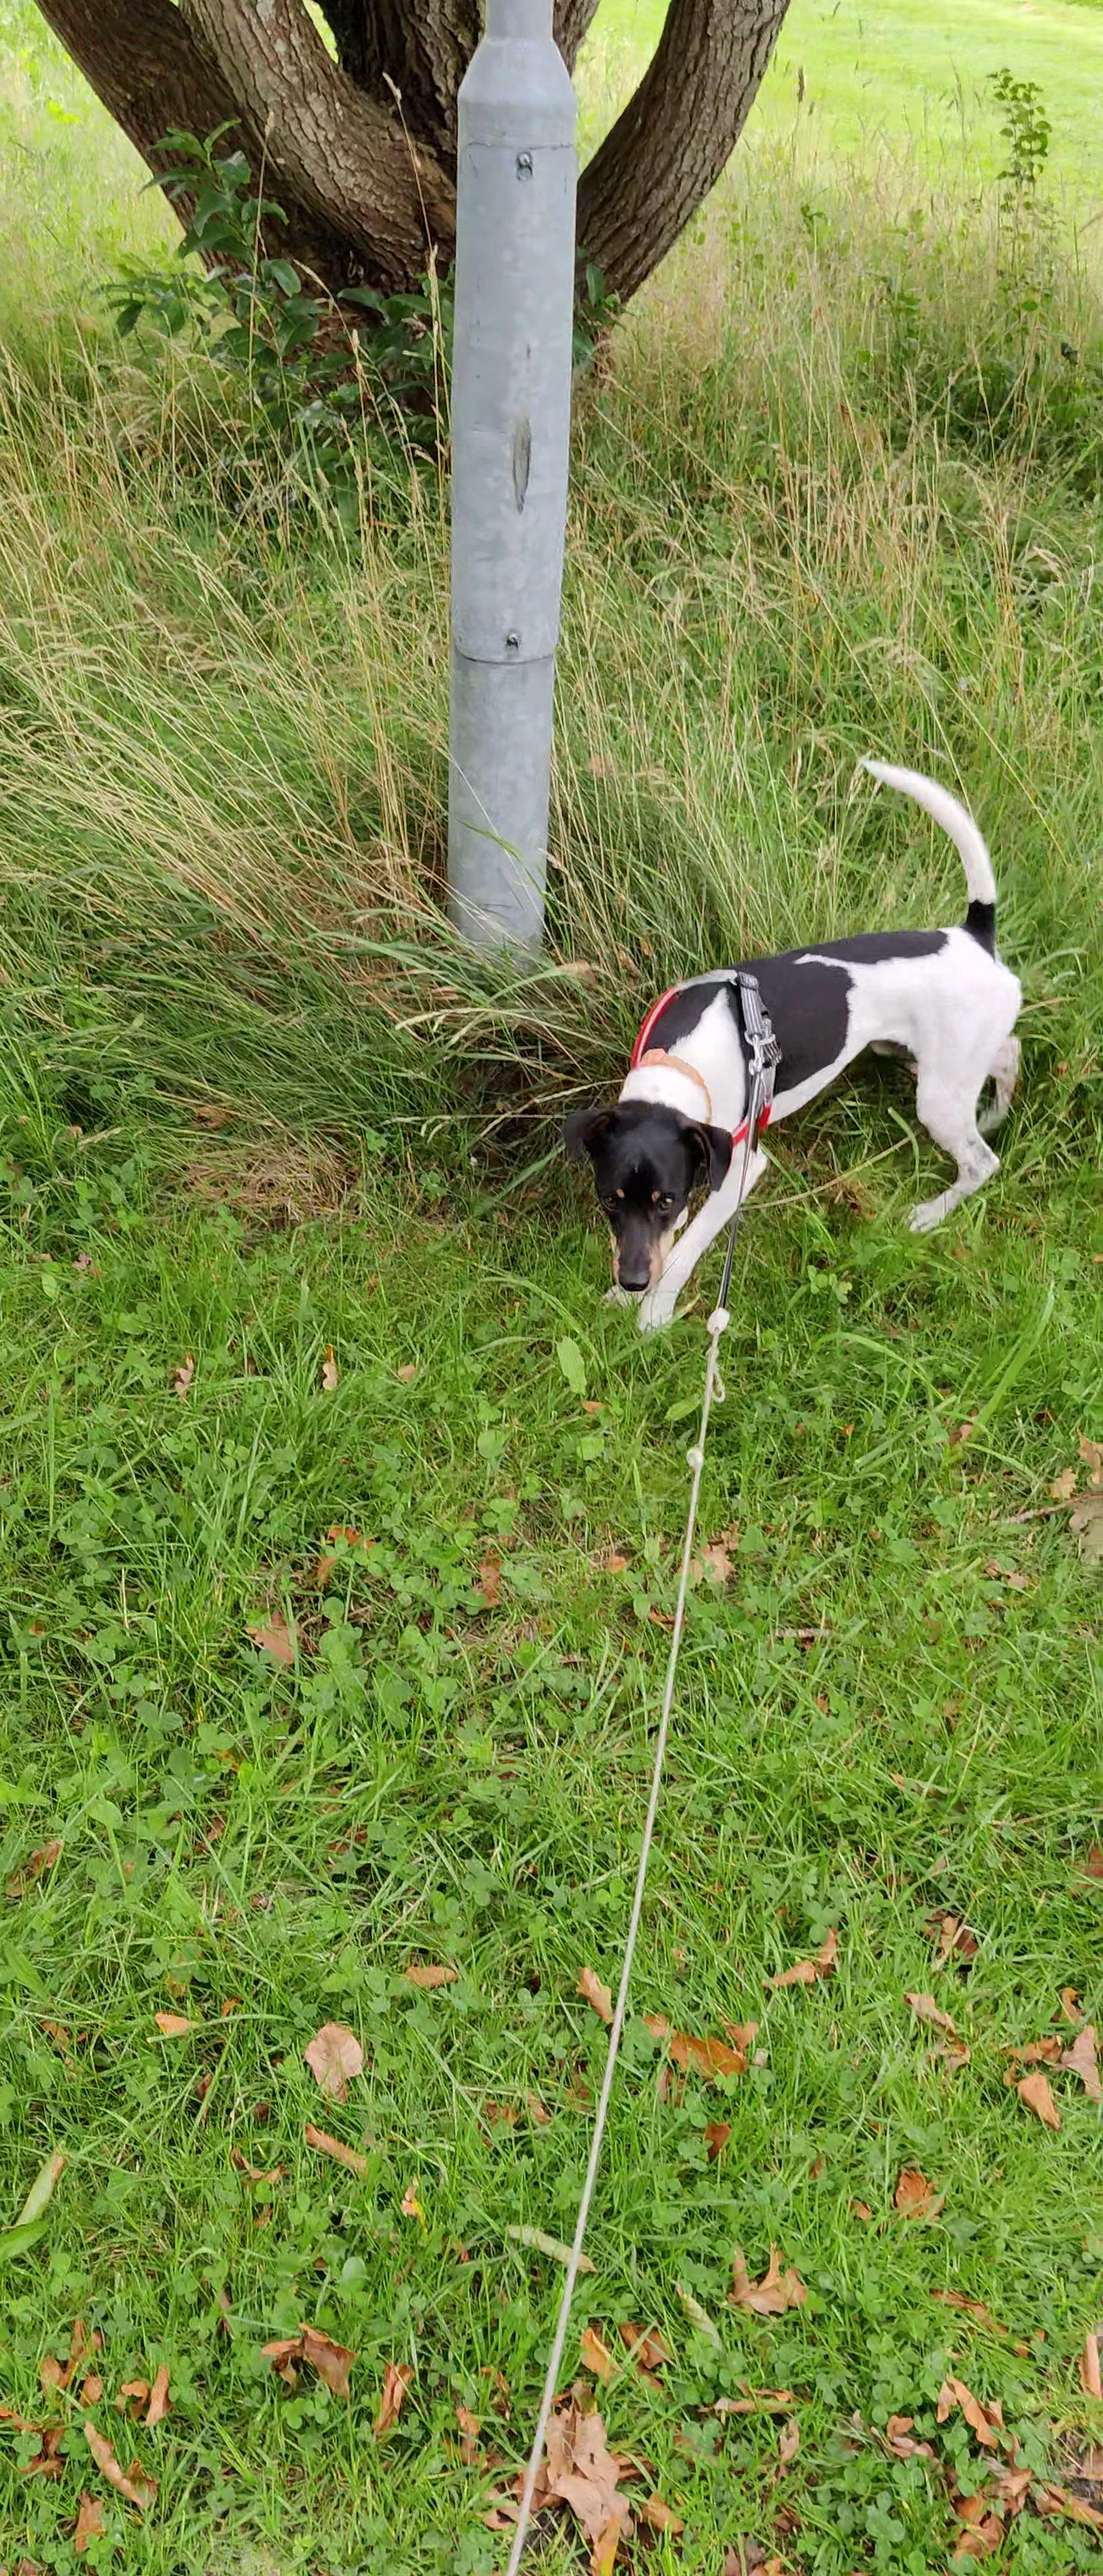Dog: (547, 749, 1044, 1362)
